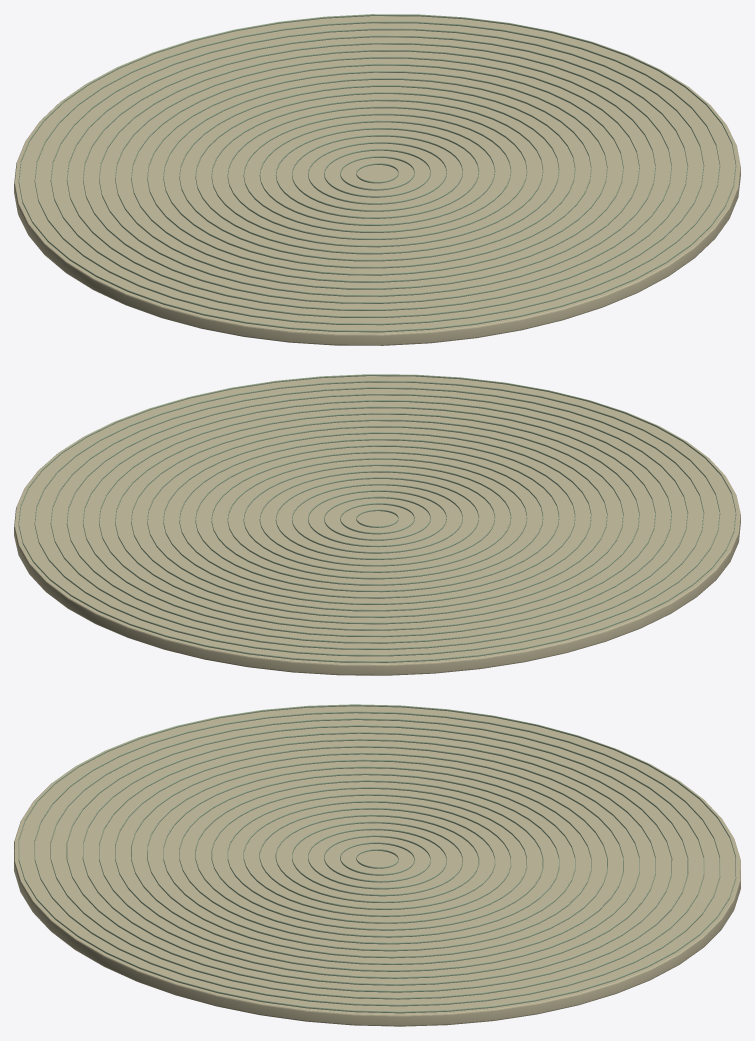
The model's file is bedroom-rug.glb.
3 views of the same model, one above another, from view 1: azimuth 30°, elevation 25°; view 2: azimuth 150°, elevation 25°; view 3: azimuth 270°, elevation 25° (orthographic). The views are drawn at different scales.
Visible parts, largest first — view 1: part_00000; view 2: part_00000; view 3: part_00000.
Boxes of the visible parts, x1,y1,x2,y2 form: part_00000: (14, 14, 740, 345); part_00000: (14, 374, 740, 675); part_00000: (14, 704, 740, 1026).
Size of the model in its own units: 1.1 by 0.0223 by 1.09.
